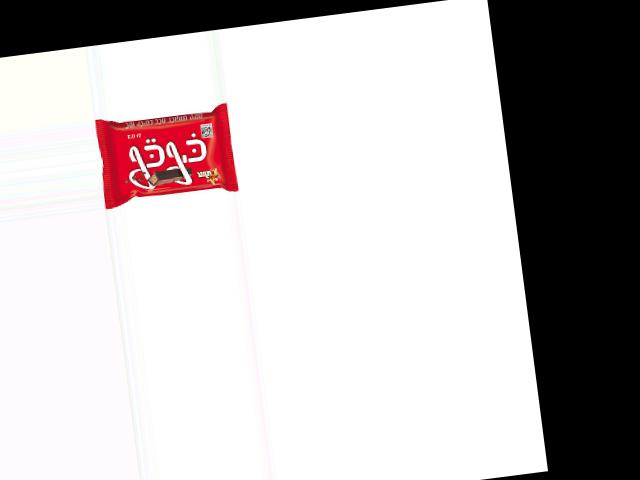chocolate: (95, 101, 238, 208)
